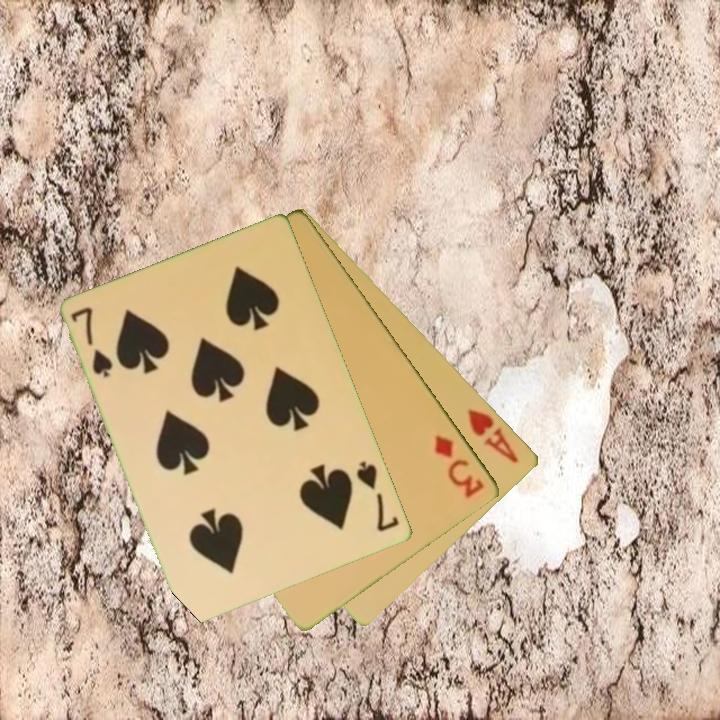3d: (431, 432, 488, 501)
7s: (353, 457, 403, 535), (68, 303, 117, 381)
Ah: (464, 405, 522, 467)
